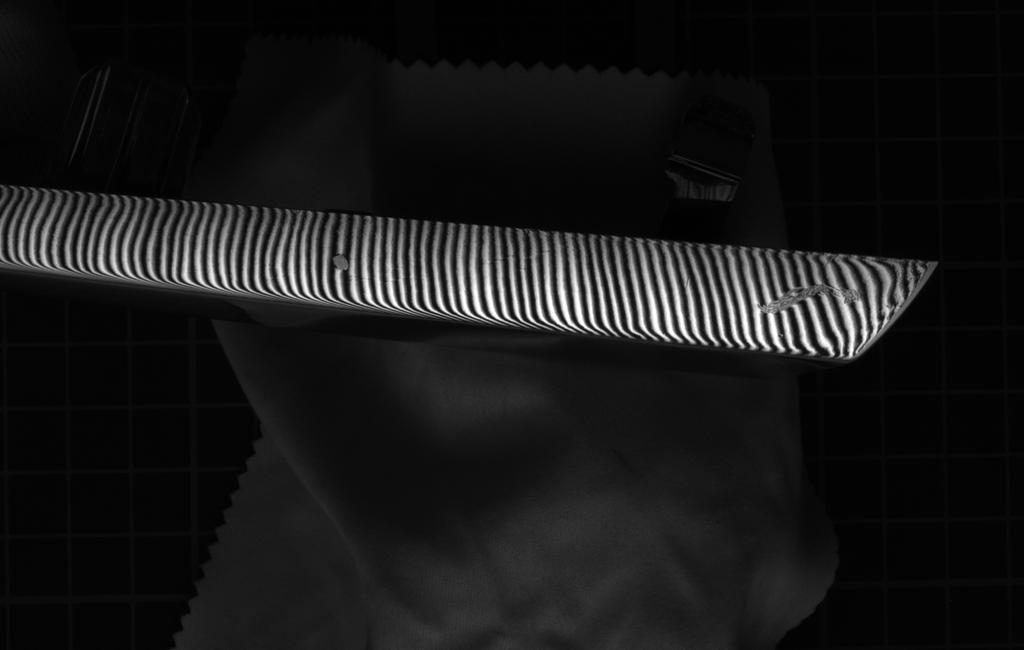Pierced: (320, 248, 360, 274)
Scratch: (744, 281, 872, 326)
